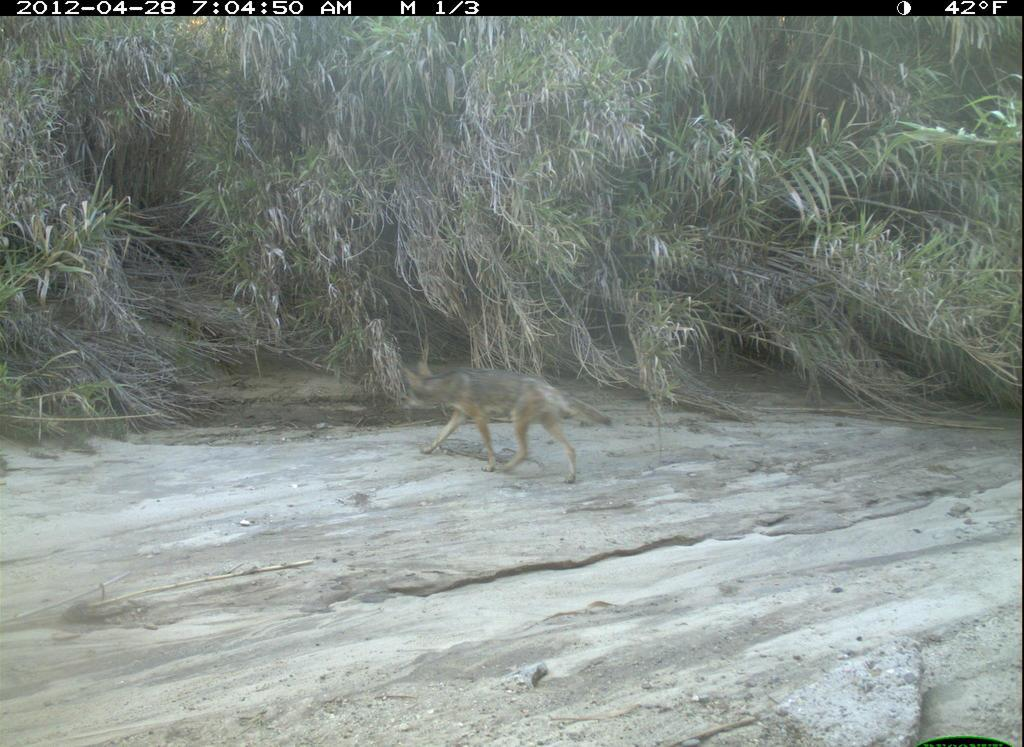coyote: (397, 355, 619, 500)
